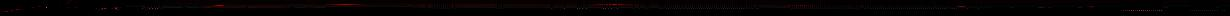Blue cone: (30, 7, 37, 8), (14, 9, 21, 10), (38, 6, 42, 7)
Yellow cone: (1088, 6, 1095, 8)
